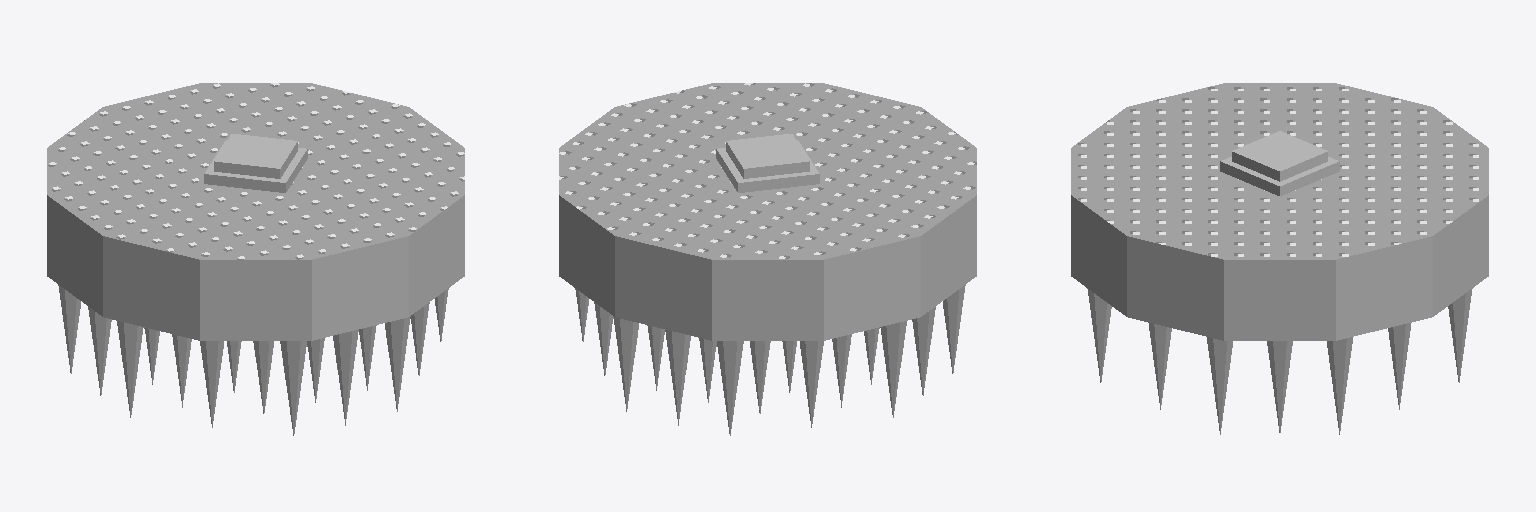
3 renders of one model, left to right at view 1: azimuth 30°, elevation 25°; view 2: azimuth 150°, elevation 25°; view 3: azimuth 270°, elevation 25°, orthographic.
Visible parts, largest first — view 1: Circle; view 2: Circle; view 3: Circle.
Part boxes in pixels (x1,y1,x2,y2): Circle: (47,83,464,435); Circle: (559,83,976,435); Circle: (1071,83,1488,434).
Size of the model in its own units: 7 by 3.88 by 7.
4 materials, 1 textured.